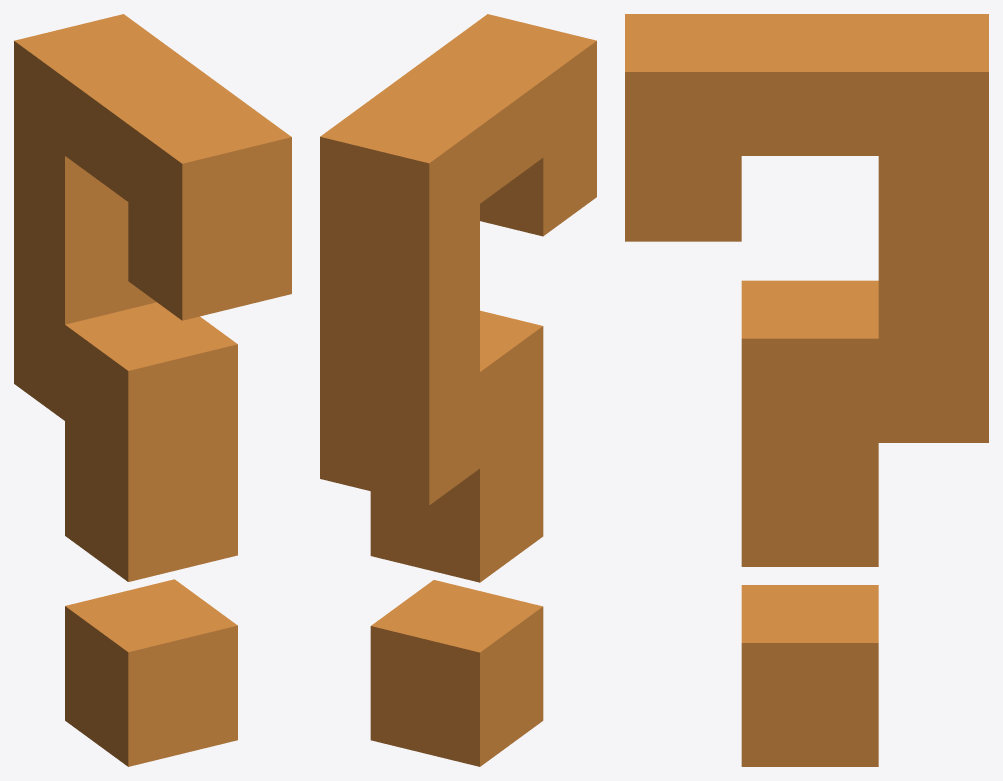
The model's file is question_mark.glb.
3 views of the same model, side by side, from view 1: azimuth 30°, elevation 25°; view 2: azimuth 150°, elevation 25°; view 3: azimuth 270°, elevation 25° (orthographic). The views are drawn at different scales.
Parts seen in each view (by area): view 1: question_mark; view 2: question_mark; view 3: question_mark.
Part boxes in pixels (x1=…): question_mark: x1=14, y1=14, x2=291, y2=766; question_mark: x1=320, y1=14, x2=596, y2=766; question_mark: x1=625, y1=14, x2=988, y2=766.
Size of the model in its own units: 0.6 by 3.36 by 1.59.
